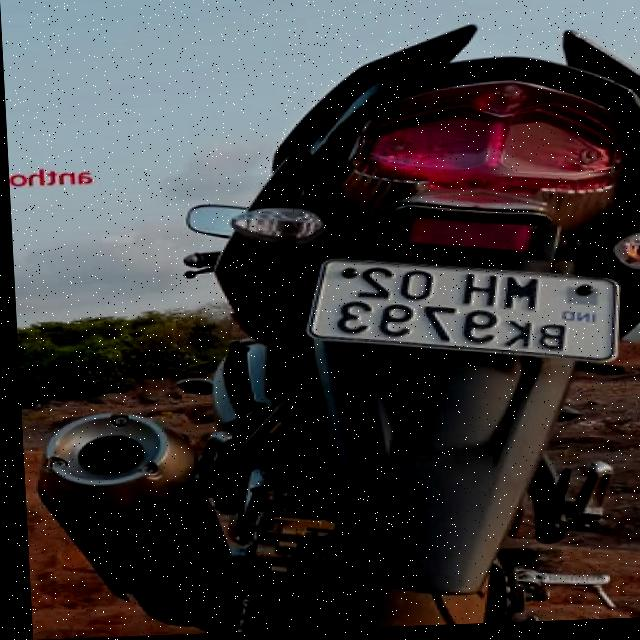plate: (298, 250, 623, 374)
